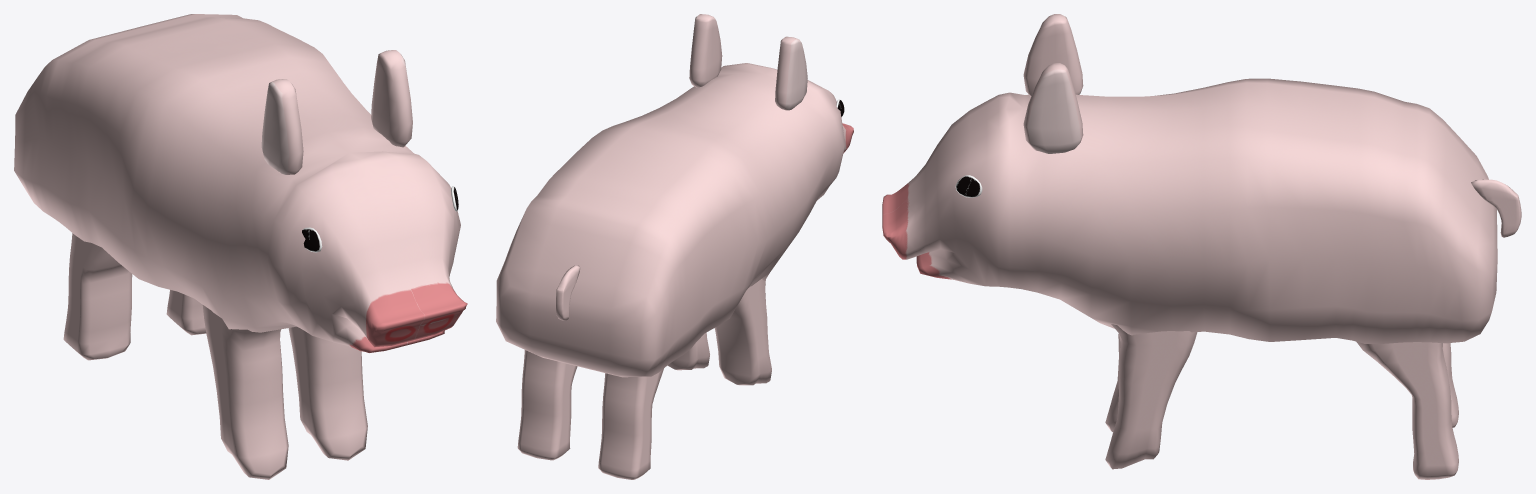
The model's file is pig_4.fbx.
3 renders of one model, left to right at view 1: azimuth 30°, elevation 25°; view 2: azimuth 150°, elevation 25°; view 3: azimuth 270°, elevation 25°, orthographic. The views are drawn at different scales.
Parts seen in each view (by area): view 1: body, pCube14, pCube2; view 2: body, pCube14, pCube2; view 3: body, pCube14, pCube2.
Part boxes in pixels (x1,y1,x2,y2): body: (14, 14, 467, 352); pCube14: (63, 50, 412, 479); pCube2: (288, 326, 367, 460); body: (496, 63, 853, 377); pCube14: (517, 14, 807, 479); pCube2: (667, 332, 709, 370); body: (882, 78, 1497, 343); pCube14: (1023, 14, 1521, 479); pCube2: (1105, 324, 1197, 469).
Size of the model in its own units: 3.04 by 5.37 by 7.62.
